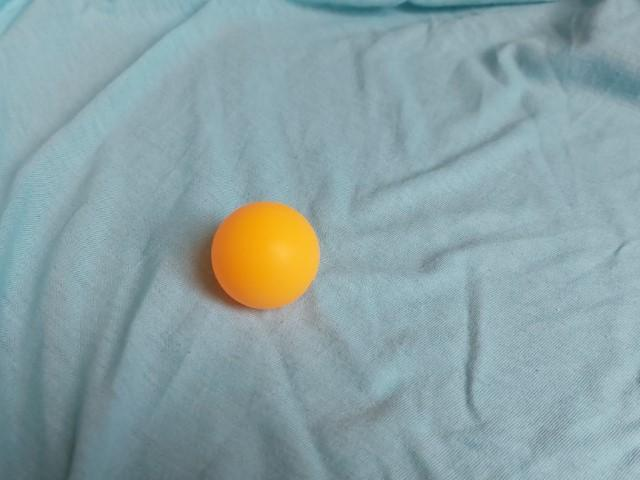oball: (206, 196, 324, 313)
